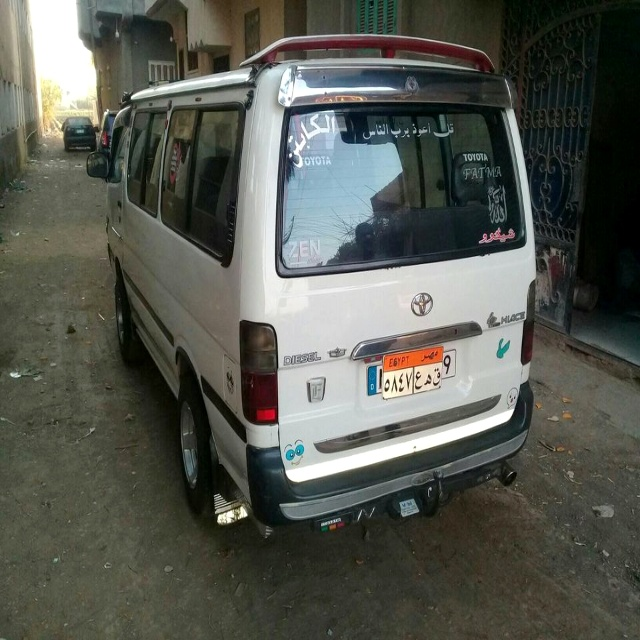License Plate: (381, 343, 444, 403)
